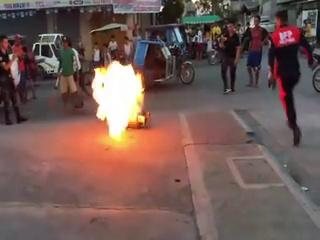Fire: (89, 58, 144, 138)
